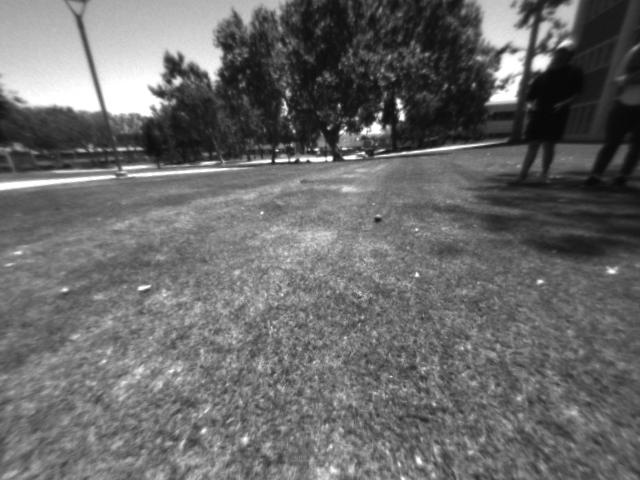dogtoy: (368, 206, 391, 227)
